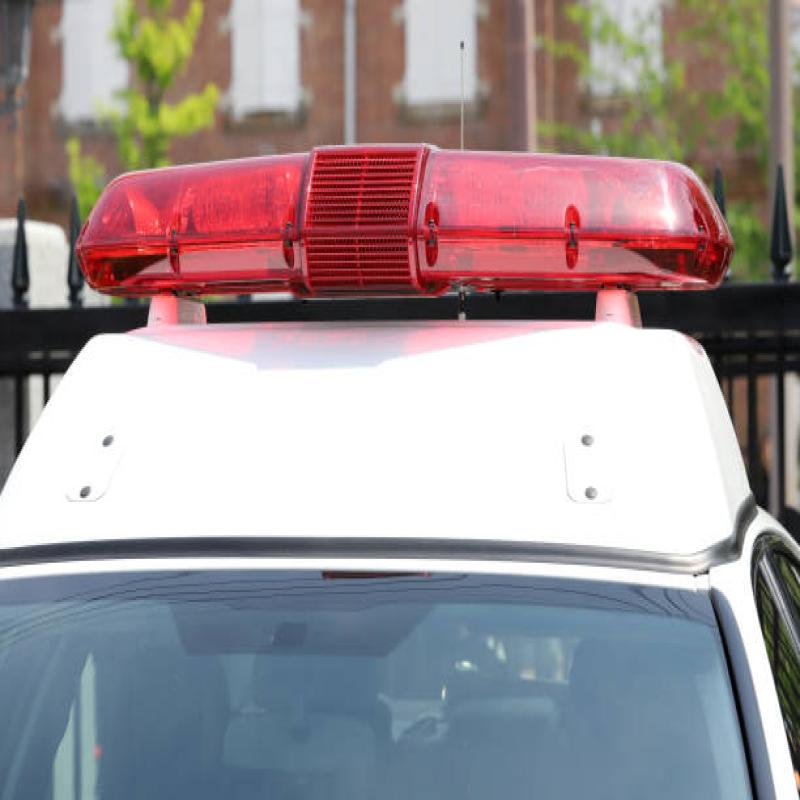AmbulanceSiren: (79, 144, 725, 343)
